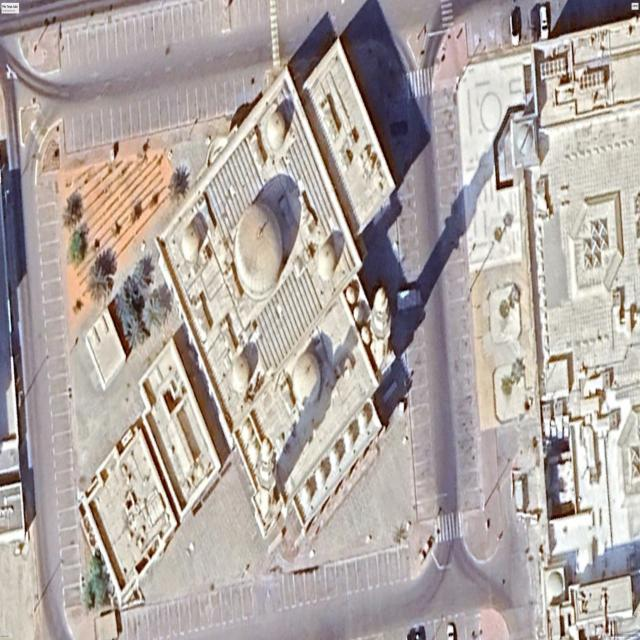mosque: (156, 39, 396, 555)
